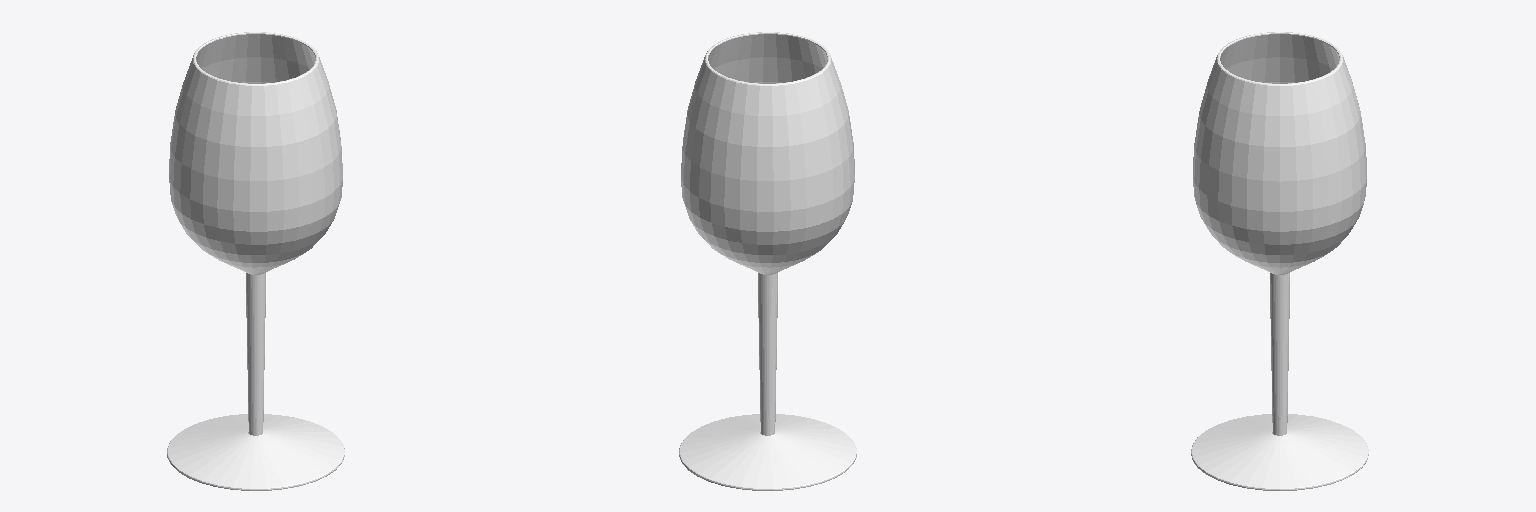
The model's file is wineglass.obj.
The picture shows the model from 3 angles: view 1: azimuth 30°, elevation 25°; view 2: azimuth 150°, elevation 25°; view 3: azimuth 270°, elevation 25°; orthographic projection.
Visible parts, largest first — view 1: g Winglass_Winglass_auv_Winglass; view 2: g Winglass_Winglass_auv_Winglass; view 3: g Winglass_Winglass_auv_Winglass.
Boxes of the visible parts, x1,y1,x2,y2 form: g Winglass_Winglass_auv_Winglass: [167, 32, 344, 490]; g Winglass_Winglass_auv_Winglass: [679, 32, 856, 490]; g Winglass_Winglass_auv_Winglass: [1191, 32, 1368, 490].
Size of the model in its own units: 1.96 by 4.8 by 1.96.